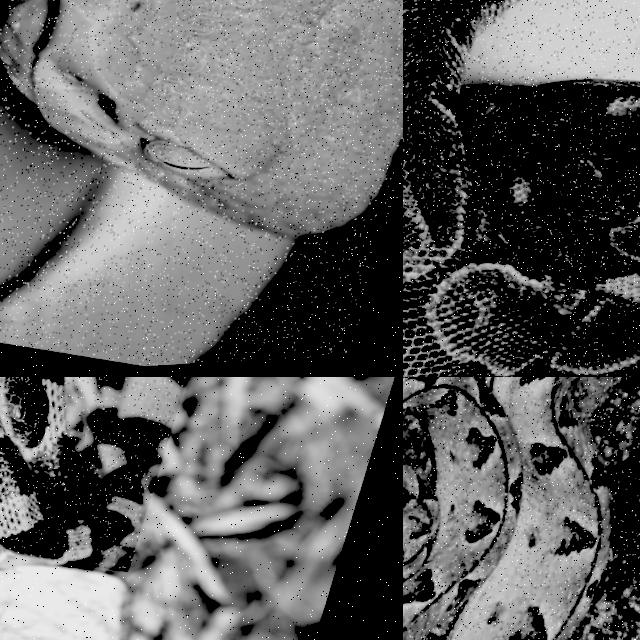Bungarus candidus: (0, 377, 184, 560)
Calloselasma rhodostoma: (403, 377, 611, 639)
Python bivittatus: (403, 0, 639, 376)
Trimeresurus macrops: (0, 0, 402, 365)
